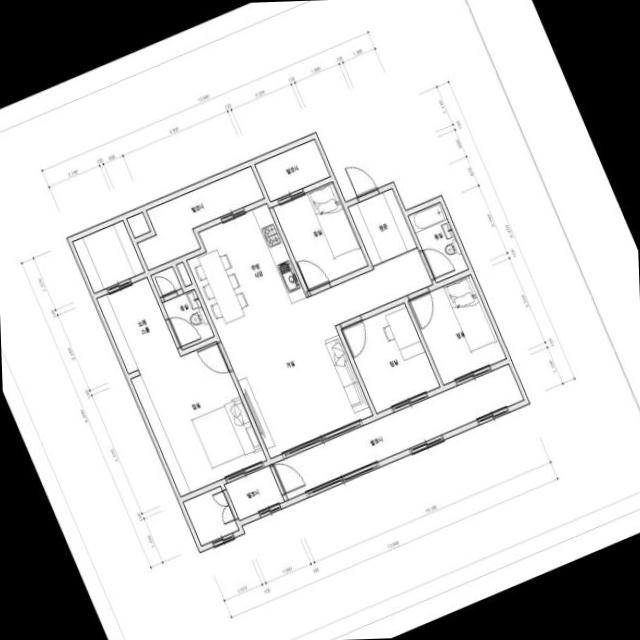background: (0, 0, 640, 640)
space_balconi: (273, 364, 524, 500), (137, 166, 264, 269), (255, 139, 330, 200), (224, 466, 284, 520)
space_bedroom: (131, 342, 266, 496), (408, 274, 506, 384), (341, 303, 439, 412), (273, 181, 367, 290)
space_dressroom: (97, 277, 178, 373)
space_front: (348, 188, 418, 269)
space_kitchen: (187, 203, 306, 334)
space_living_room: (218, 251, 432, 457)
space_other: (73, 220, 144, 292), (183, 486, 238, 545), (127, 212, 150, 237), (176, 262, 191, 286)
space_toilet: (151, 266, 213, 349), (408, 202, 468, 282)
